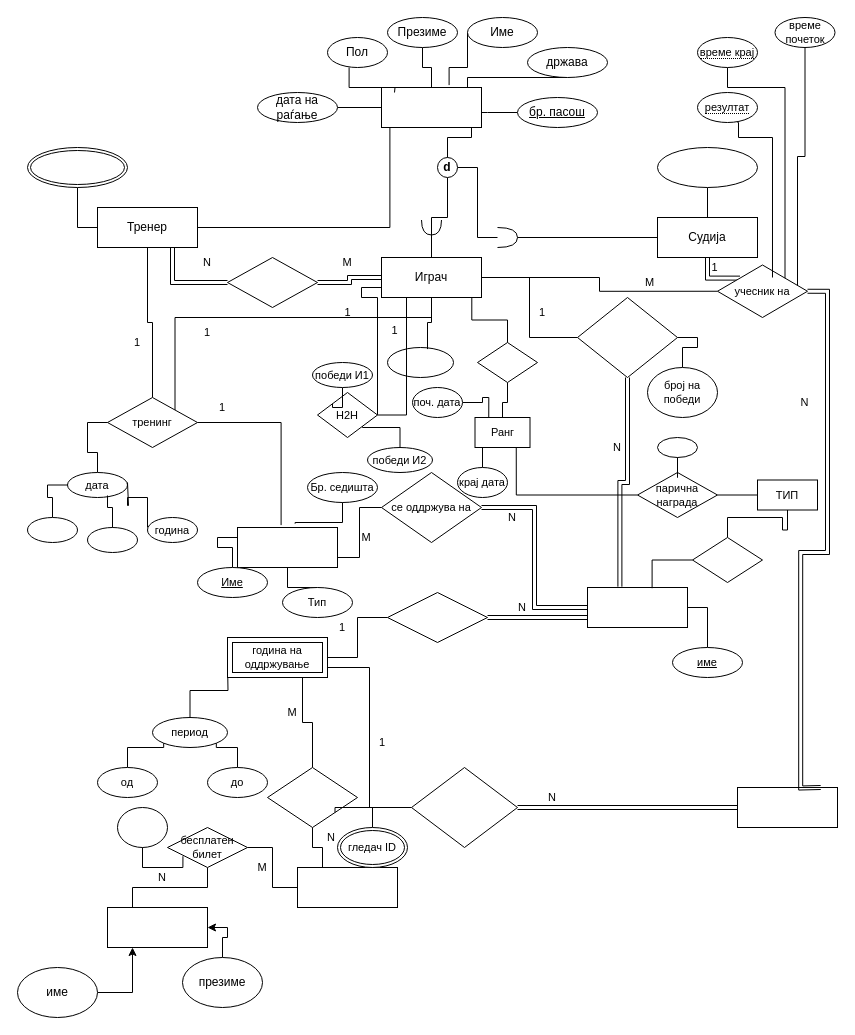
Some shapes in this 855 by 1035 pixel diagram are drawn without their labels. Each missing label, with the centre of its shape:
"вид на турнир" goes at [727,559].
"Гледачи" goes at [157,927].
"ден" goes at [52,529].
"играч-тренер" goes at [272,282].
"играчи" goes at [77,167].
"износ" goes at [677,447].
"име на турнир" goes at [142,827].
"искуство" goes at [707,167].
"месец" goes at [112,539].
"Натпревар" goes at [787,807].
"најдобар играч на" goes at [627,337].
"почеток на кариера" goes at [420,362].
"рангира" goes at [507,362].
"се оддржал" goes at [437,617].
"се оддржал за време на" goes at [464,807].
"спонзор" goes at [347,887].
"спонзорира турнир" goes at [312,797].
"Терен" goes at [287,547].
"Турнир" goes at [637,607].
"Учесник" goes at [431,107].
